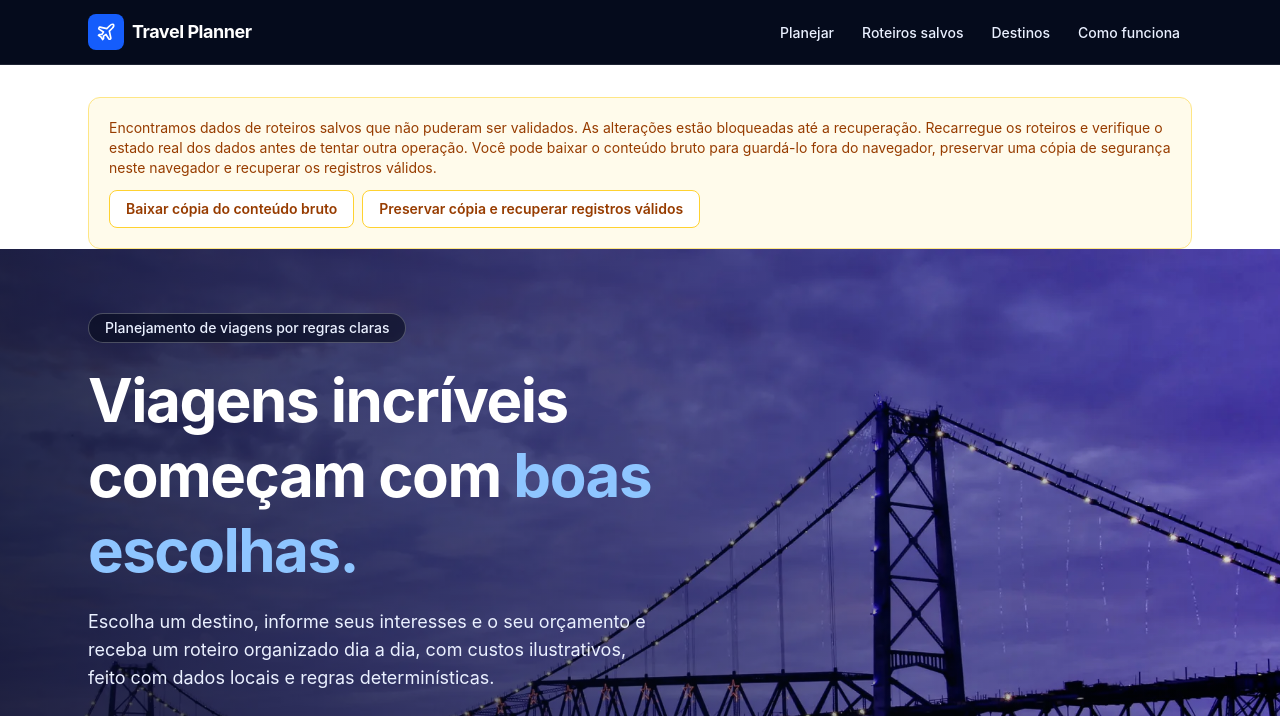
exportação do conteúdo bruto da principal corrompida (AUD-05) › reproduz o cenário exato do AUD-05: principal corrompida e quarentena ausente exportável
Expected: the text "não puderam ser validados" is shown, [109,119,1170,176]
# A ação de exportação do conteúdo bruto da principal existe.
Click the button "Baixar cópia do conteúdo bruto" at (232,209), box [109,190,354,228]
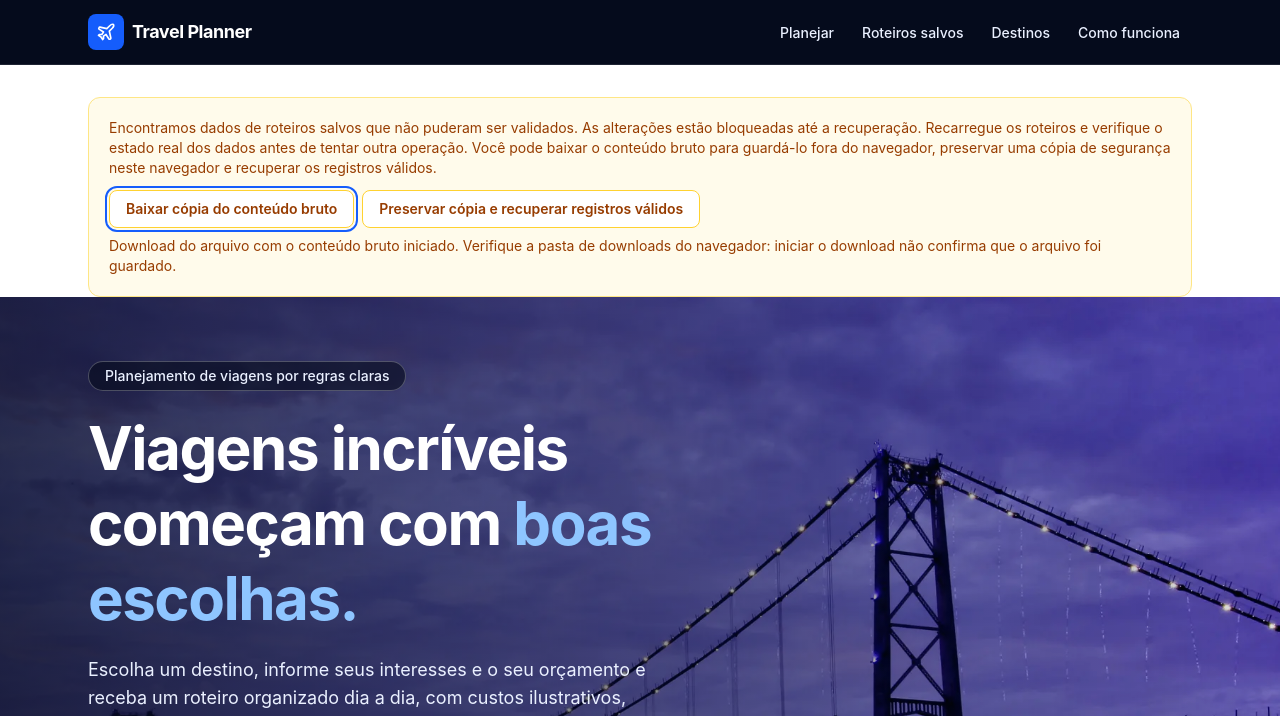
Expected: the message shows "não confirma que o arquivo foi guardado", [109,237,1101,274]
